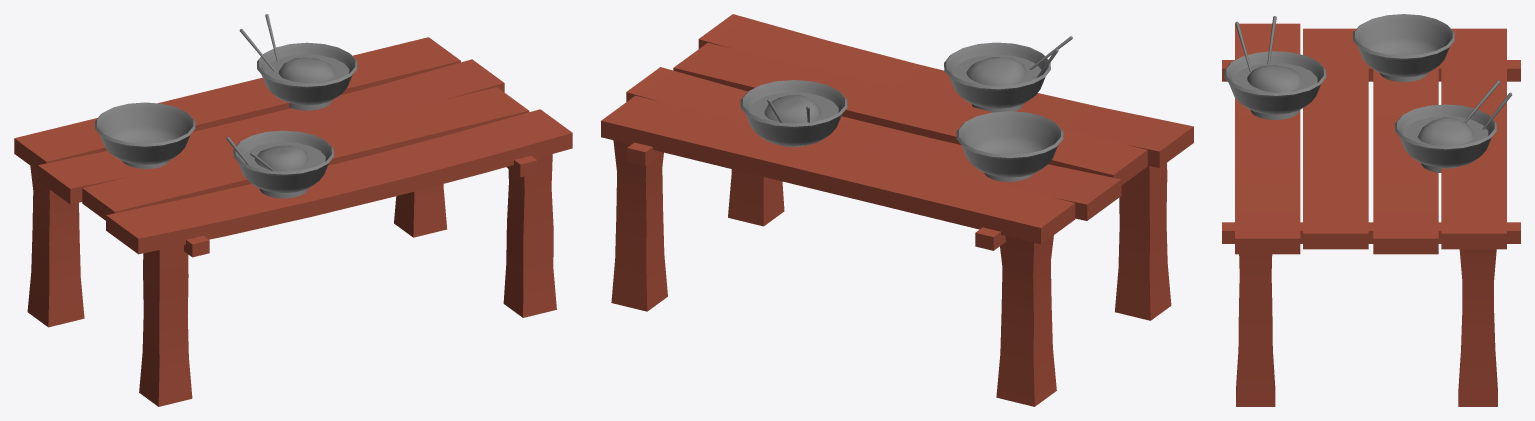
The model's file is SM_table_wooden_soup.fbx.
3 renders of one model, left to right at view 1: azimuth 30°, elevation 25°; view 2: azimuth 150°, elevation 25°; view 3: azimuth 270°, elevation 25°, orthographic. The views are drawn at different scales.
Visible parts, largest first — view 1: Cylinder095; view 2: Cylinder095; view 3: Cylinder095.
Boxes of the visible parts, box(x1,y1,x2,y2) form: Cylinder095: box(14, 14, 572, 406); Cylinder095: box(601, 14, 1193, 406); Cylinder095: box(1222, 14, 1520, 406).
Bounding box in the file's own units: 87.48 × 45.11 × 51.43.
